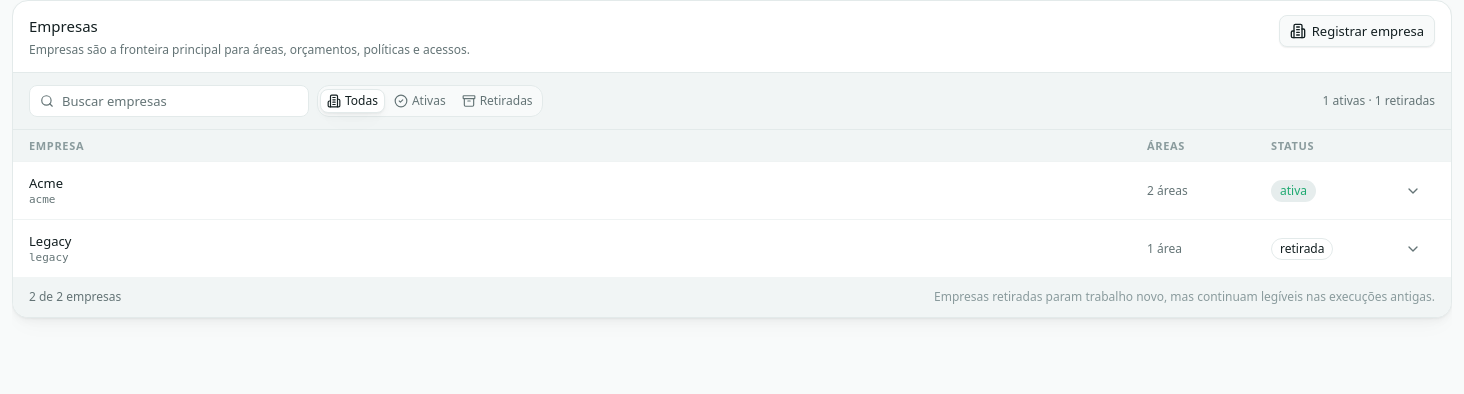
it: company administration › filters companies with the same toolbar pattern as people
Expected: the search field is shown, [62,92,298,110]
Expected: the 3rd icon is shown, [327,94,341,108]
Click the button "Retiradas".
click(497, 101)  # box [455,89,540,113]
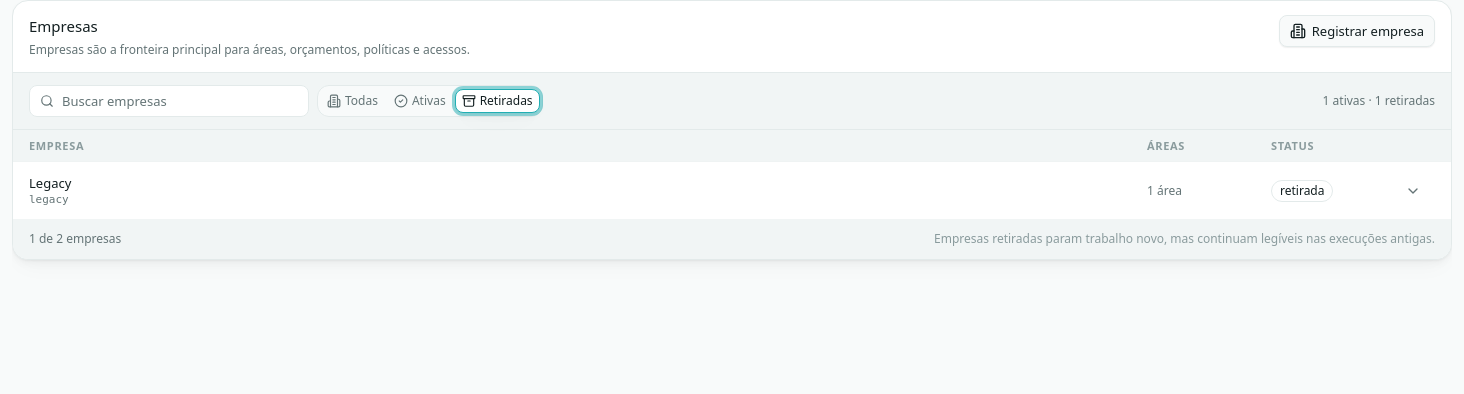
Expected: the text "Legacy" is shown, [29,174,71,192]
Result: the button "Acme" is gone
Type "missing" into the search field.
click(180, 101); type("missing")  # box [62,92,298,110]
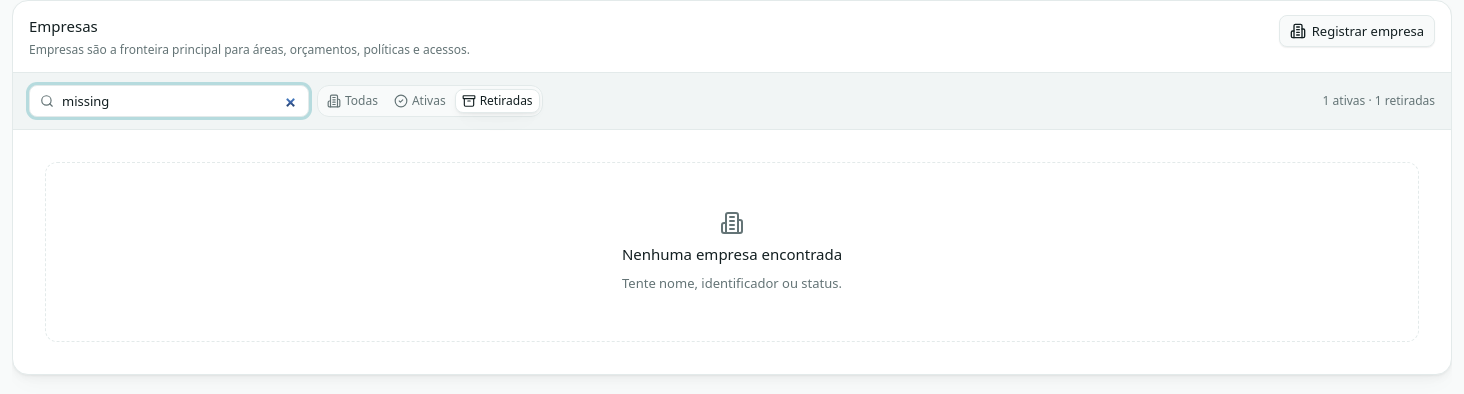
Result: the text "Nenhuma empresa encontrada" is shown at [622,243,842,266]
